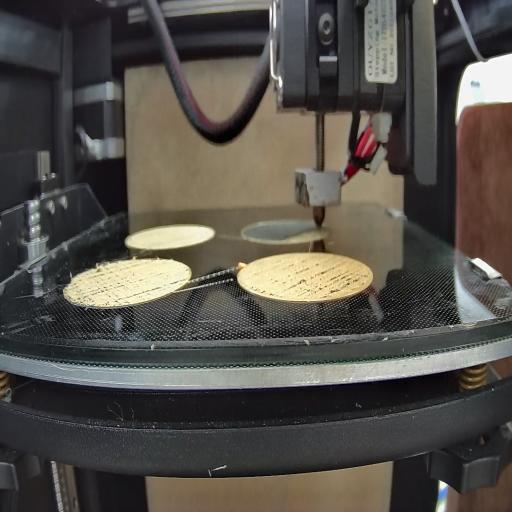under_extrusion: (68, 266, 163, 308), (250, 268, 369, 299), (170, 270, 190, 288)
